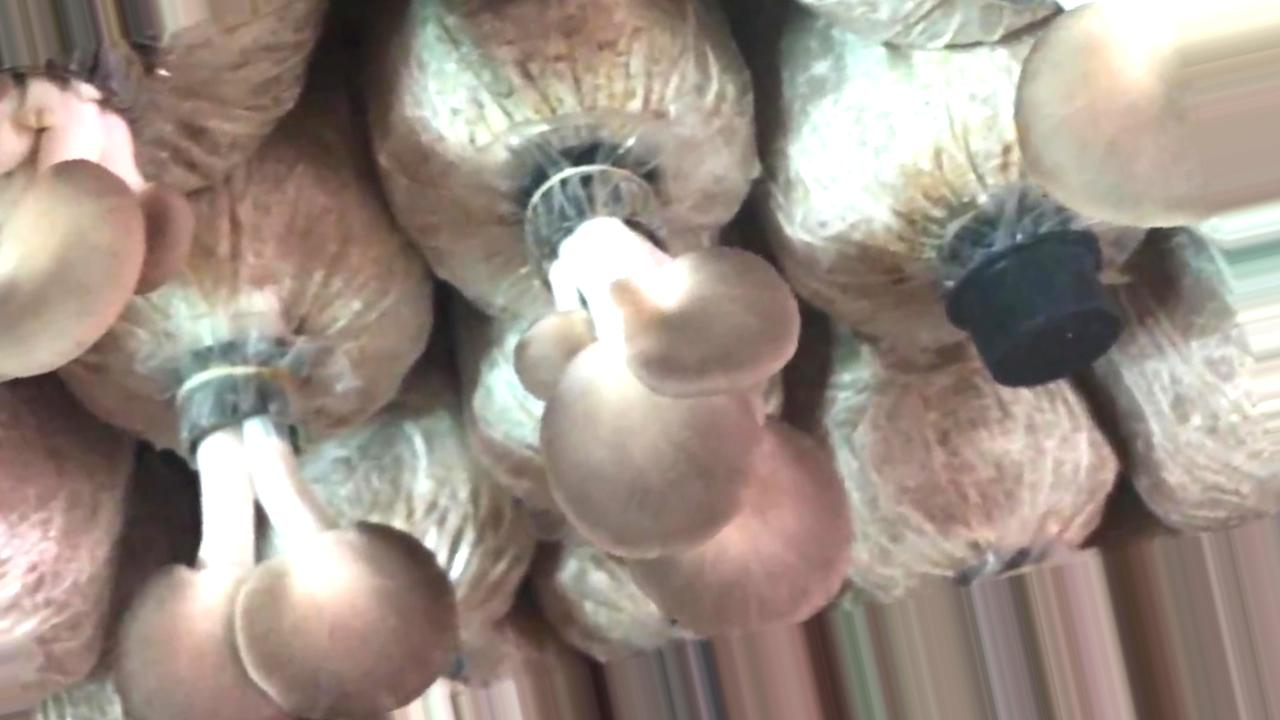nam: (513, 173, 852, 638), (117, 369, 460, 719), (1, 2, 192, 382), (1013, 2, 1280, 226)
